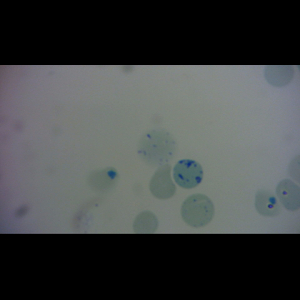aggregate reticulocyte: (171, 158, 205, 190)
erythrocyte: (147, 163, 179, 201), (253, 187, 283, 218), (132, 209, 160, 234)
punctate reticulocyte: (179, 192, 216, 228)
